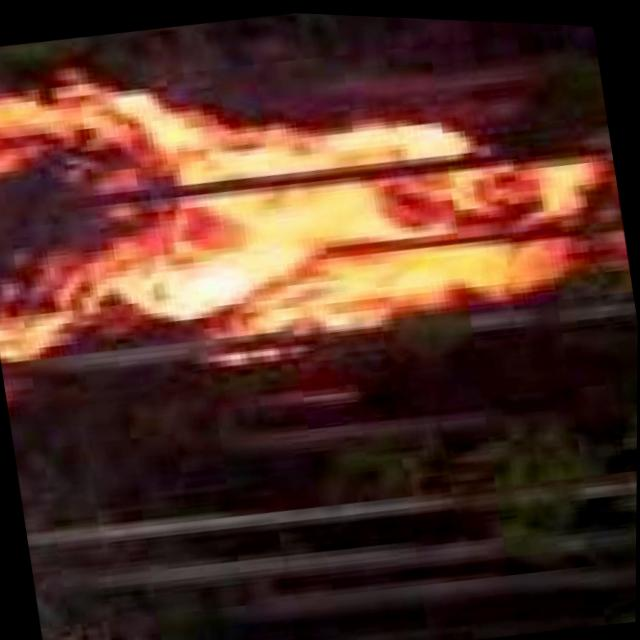fire: (0, 0, 614, 417)
